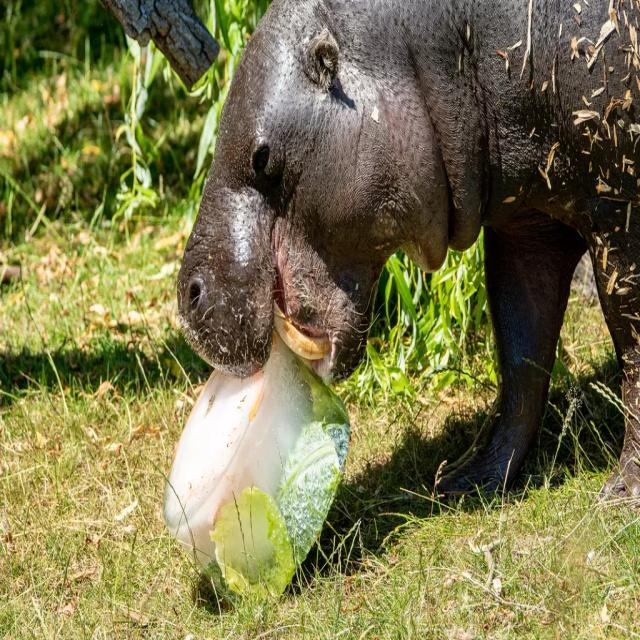Hippopotamus: (175, 3, 640, 505)
